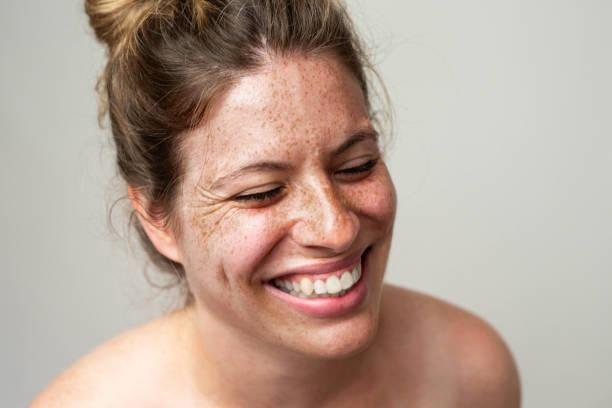Dry-Skin: (227, 73, 356, 147)
